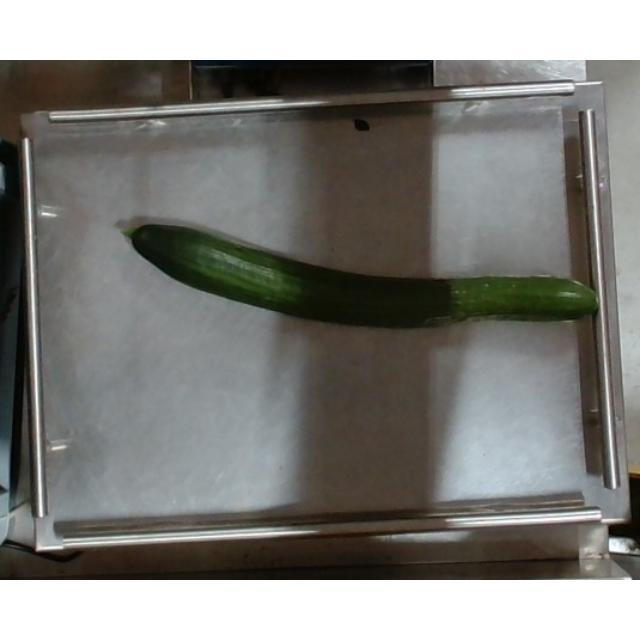cucumber: (120, 218, 602, 330)
